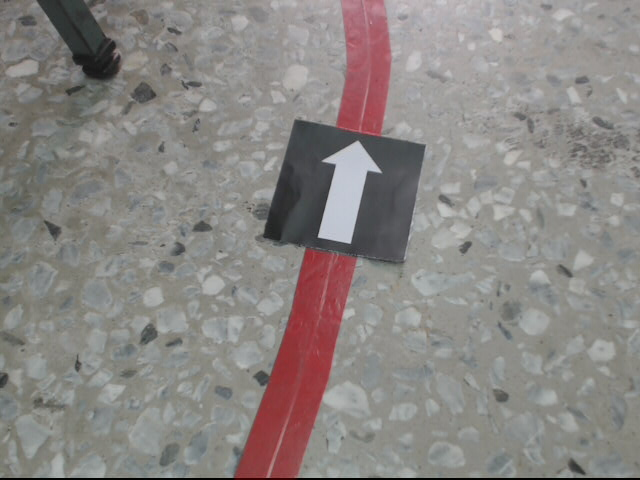straight: (268, 118, 428, 262)
